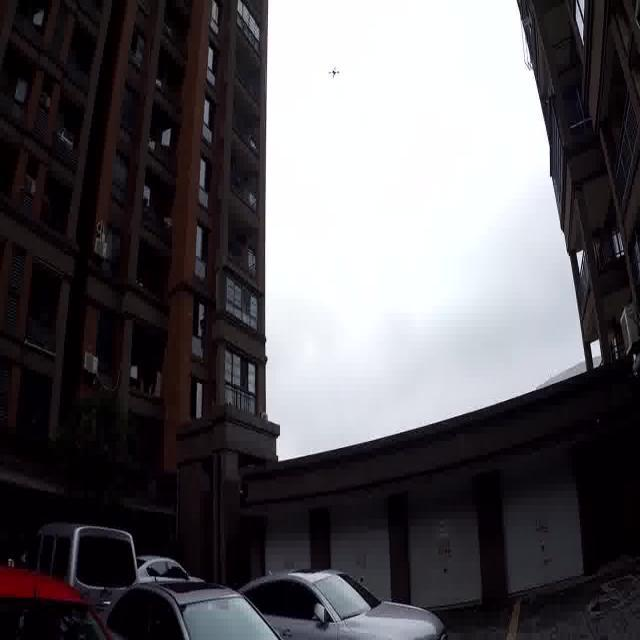drone: (316, 44, 346, 84)
